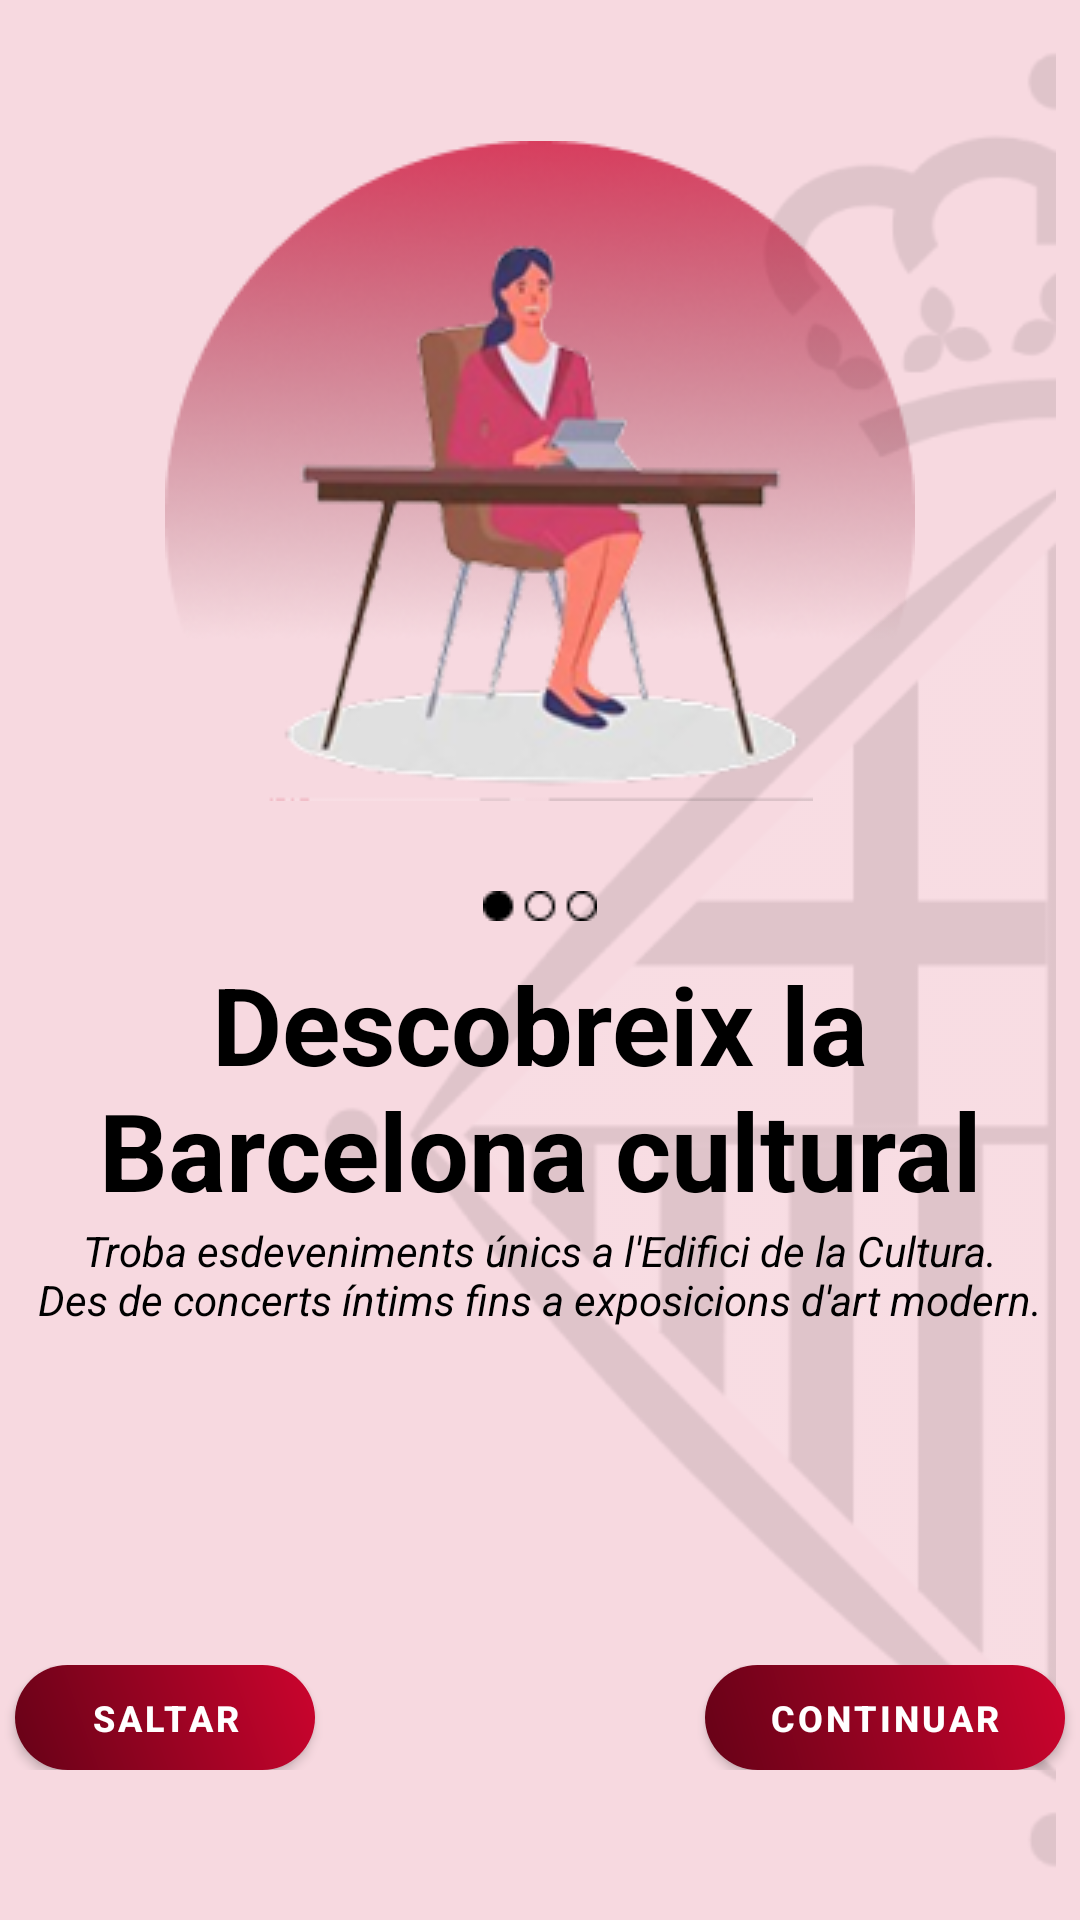

Screen size 1080 × 1920. Icon name, then its box in pixels as (x1, y1, x2, y2):
onboarding circulos: (483, 891, 597, 921)
